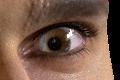eye: (40, 28, 70, 55)
